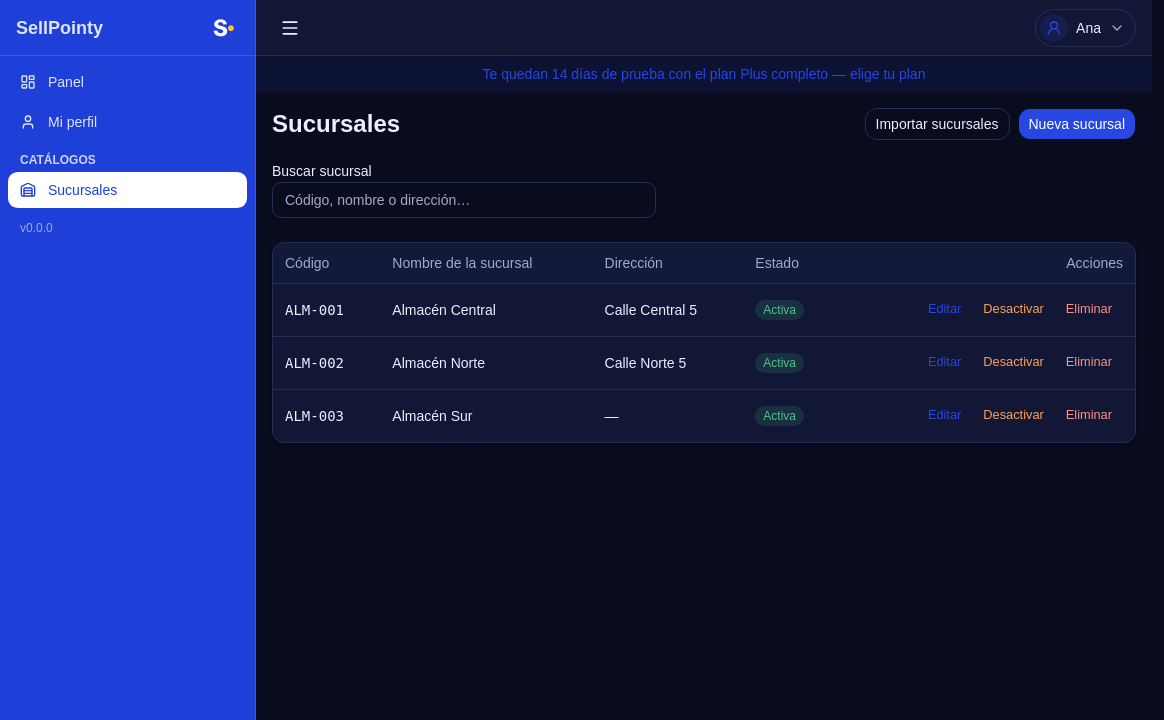
it: buscador de sucursales (Carlos, 2026-09-01) › sin coincidencias lo dice, sin confundirlo con «no hay sucursales»
The width and height of the screenshot is (1164, 720).
Type "zzz" into the field labelled "Buscar sucursal".
click(464, 200); type("zzz")  # box [272,182,656,218]
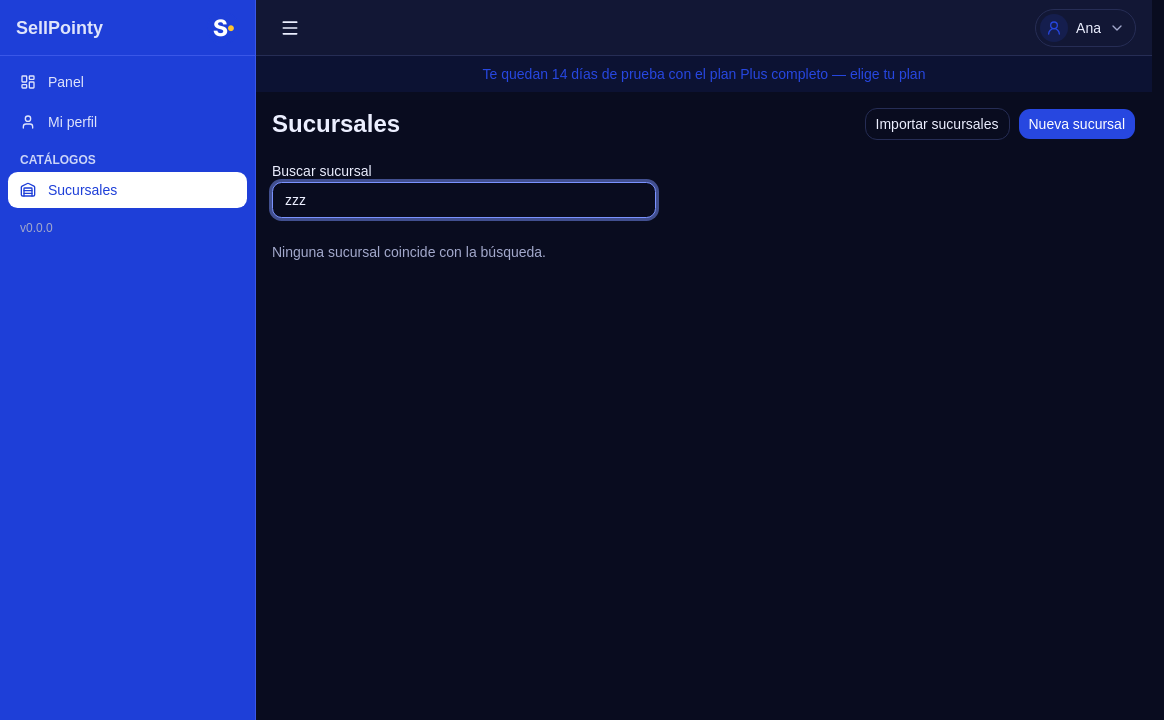
Result: the text "Ninguna sucursal coincide con la búsqueda." is shown at [272,244,546,260]
